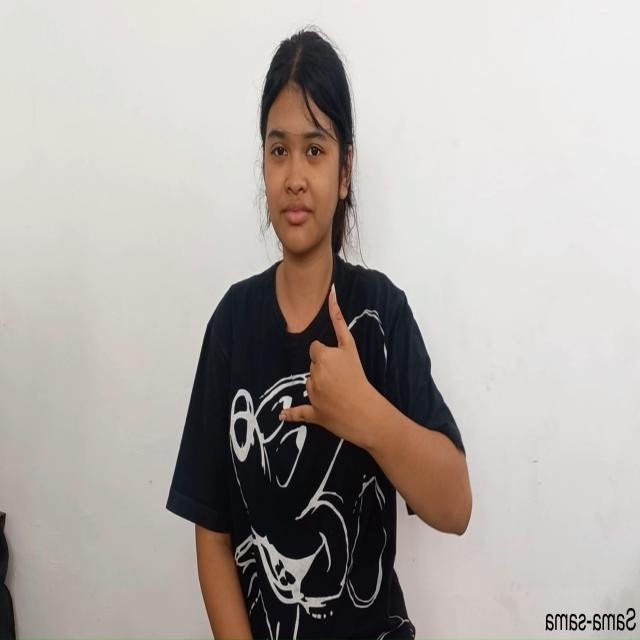Sama-sama -BISINDO-: (272, 281, 371, 445)
